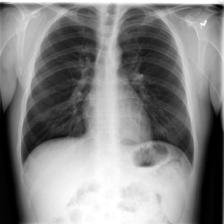normal: (20, 5, 198, 170)
